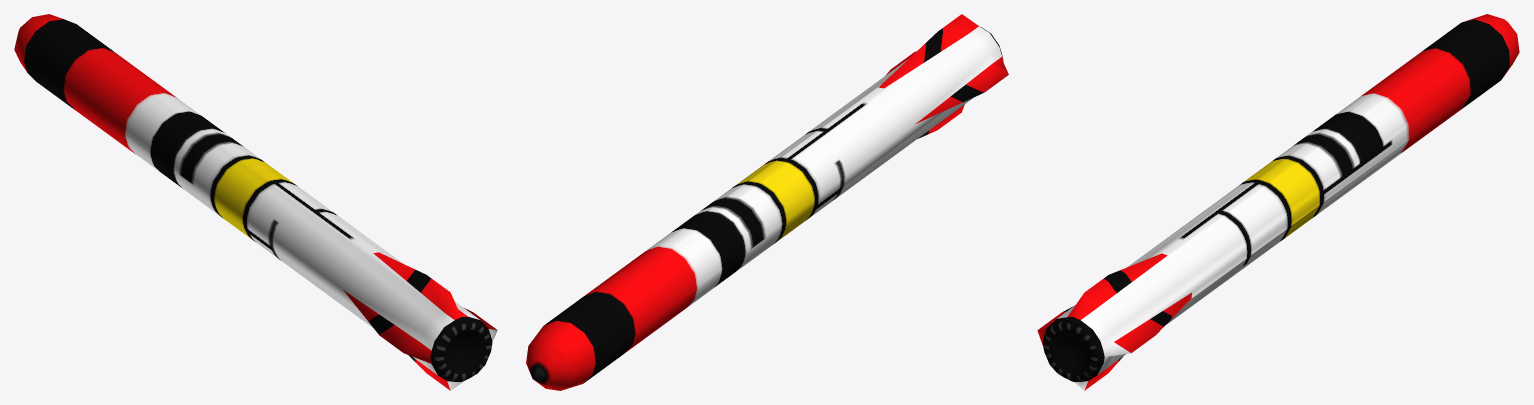
The model's file is missile.fbx.
3 renders of one model, left to right at view 1: azimuth 30°, elevation 25°; view 2: azimuth 150°, elevation 25°; view 3: azimuth 330°, elevation 25°, orthographic.
Visible parts, largest first — view 1: Missile; view 2: Missile; view 3: Missile.
Part boxes in pixels (box(x1,y1,x2,y2)): Missile: box(14, 14, 497, 390); Missile: box(526, 14, 1008, 390); Missile: box(1037, 14, 1519, 390).
Bounding box in the file's own units: 1.02 × 1.02 × 8.17.
